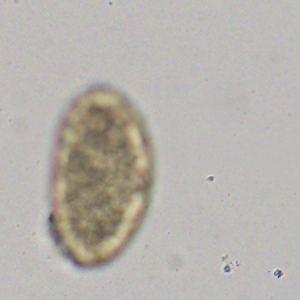Fasciola_hepatica_egg: (47, 81, 157, 271)
